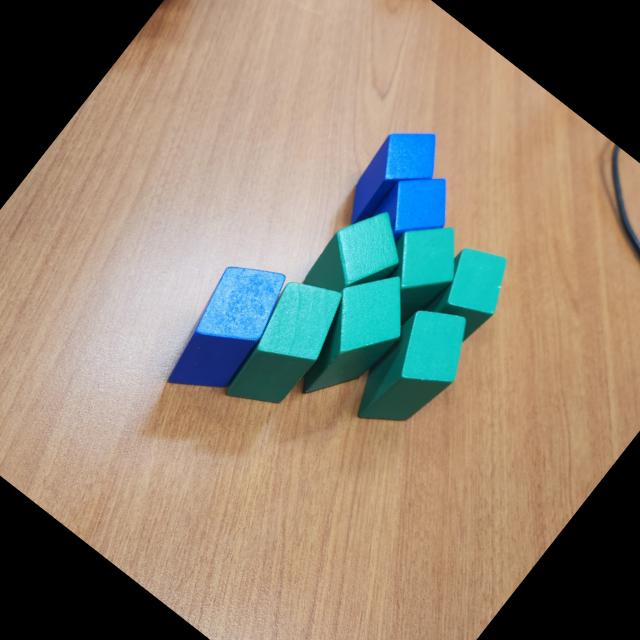blue: (148, 243, 304, 414), (330, 113, 454, 248), (365, 156, 468, 262)
green: (276, 253, 428, 419), (208, 262, 359, 428), (339, 290, 488, 450), (352, 204, 480, 338), (296, 194, 420, 326), (413, 232, 526, 350)
